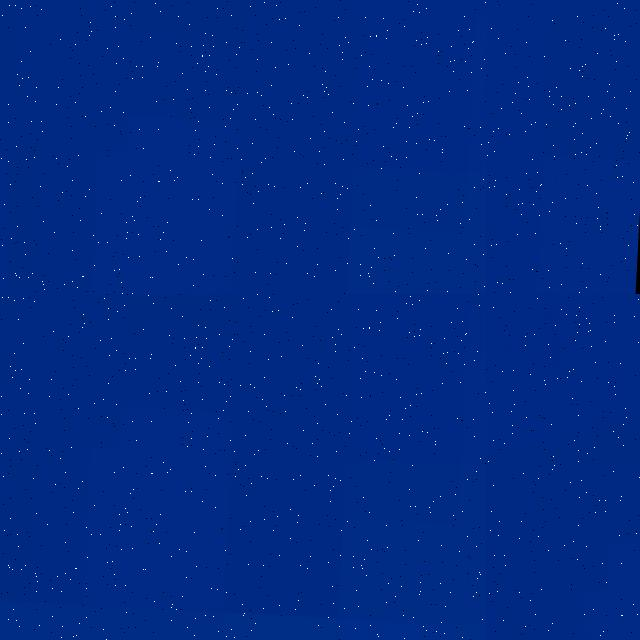drone: (486, 294, 640, 640)
